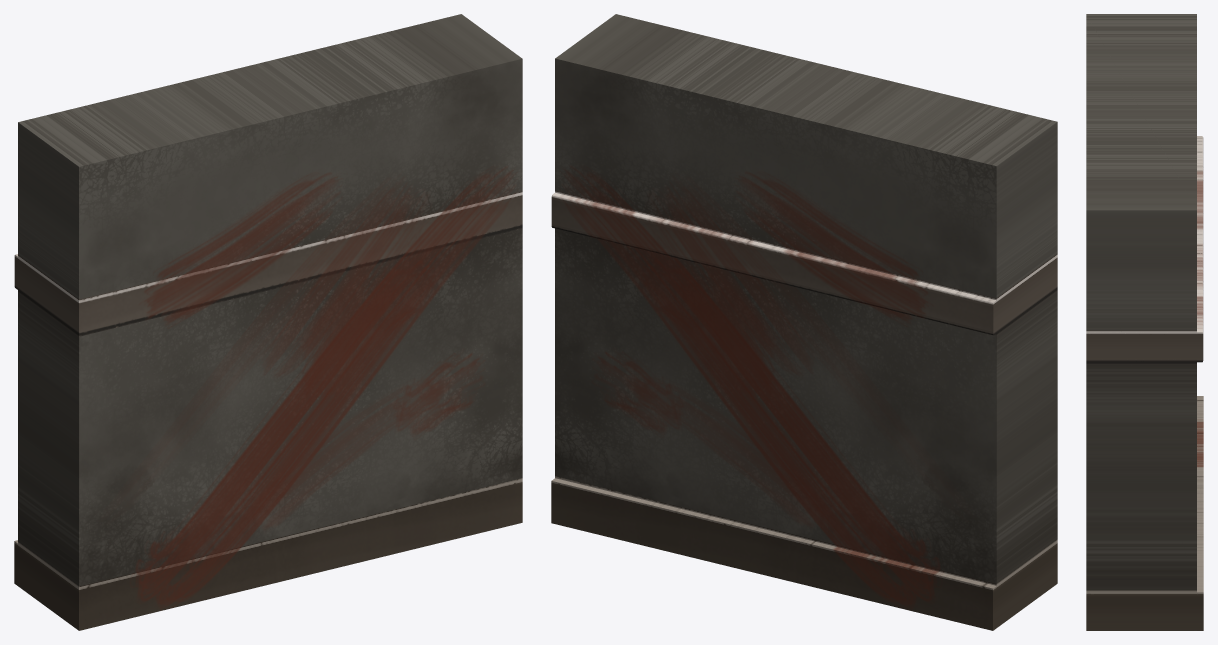
File: Wall_4_L.fbx
3 renders of one model, left to right at view 1: azimuth 30°, elevation 25°; view 2: azimuth 150°, elevation 25°; view 3: azimuth 270°, elevation 25°, orthographic. The views are drawn at different scales.
Parts seen in each view (by area): view 1: Wall_4_L; view 2: Wall_4_L; view 3: Wall_4_L.
Part boxes in pixels (<box>): Wall_4_L: <box>14,14,522,630</box>; Wall_4_L: <box>551,14,1057,630</box>; Wall_4_L: <box>1086,14,1203,630</box>.
Size of the model in its own units: 4 by 4 by 1.01.
